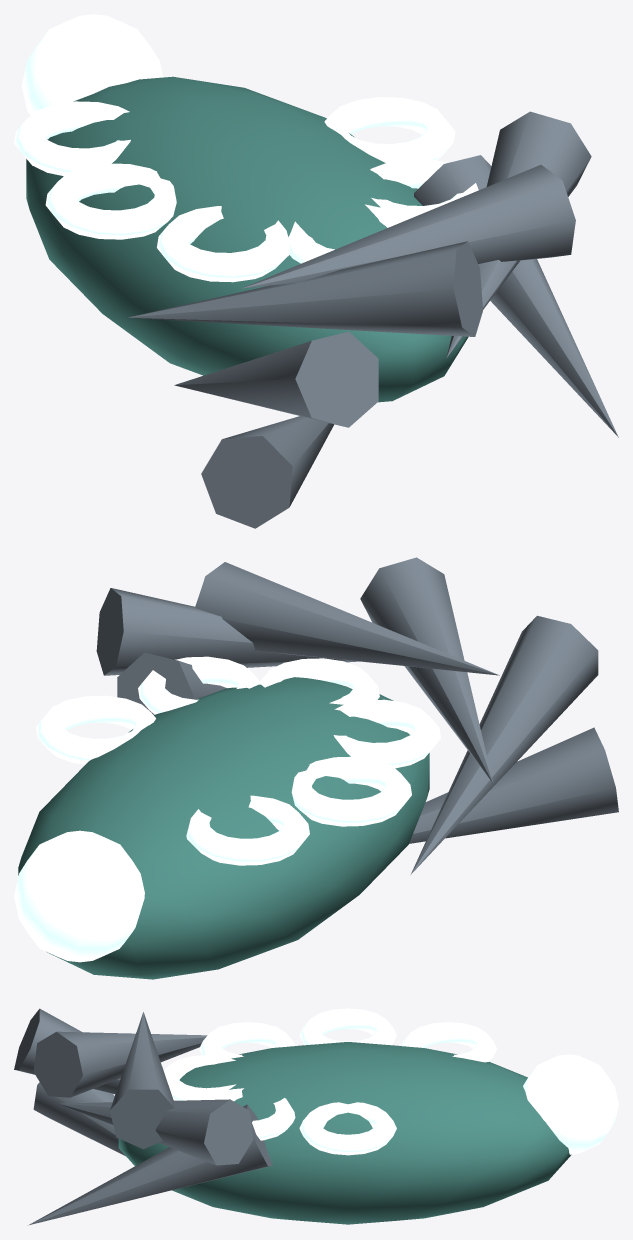
The model's file is enemy_xil.glb.
The picture shows the model from 3 angles, top to bottom: view 1: azimuth 30°, elevation 25°; view 2: azimuth 150°, elevation 25°; view 3: azimuth 270°, elevation 25°; orthographic projection. The views are drawn at different scales.
Parts seen in each view (by area): view 1: enemy_xil; view 2: enemy_xil; view 3: enemy_xil.
Part boxes in pixels (<box>): enemy_xil: <box>14,14,618,528</box>; enemy_xil: <box>14,557,618,979</box>; enemy_xil: <box>14,1008,618,1225</box>.
Size of the model in its own units: 1.08 by 0.5335 by 1.69.
